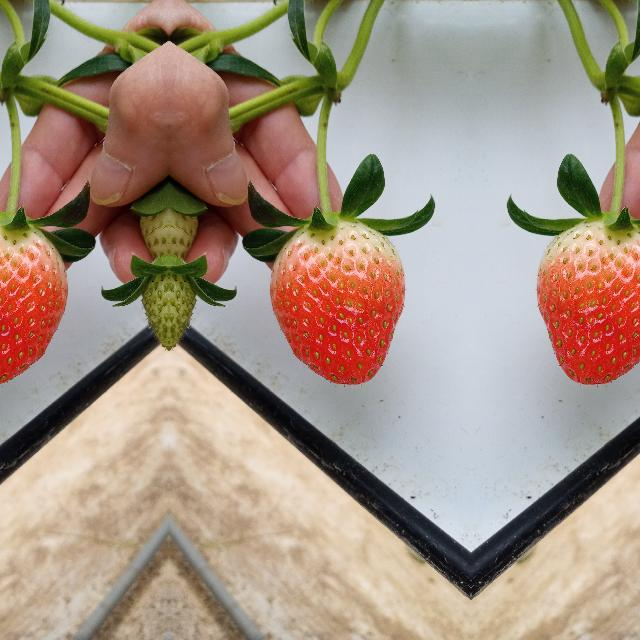Health_100: (269, 218, 407, 386), (534, 217, 640, 386), (0, 217, 67, 386)
